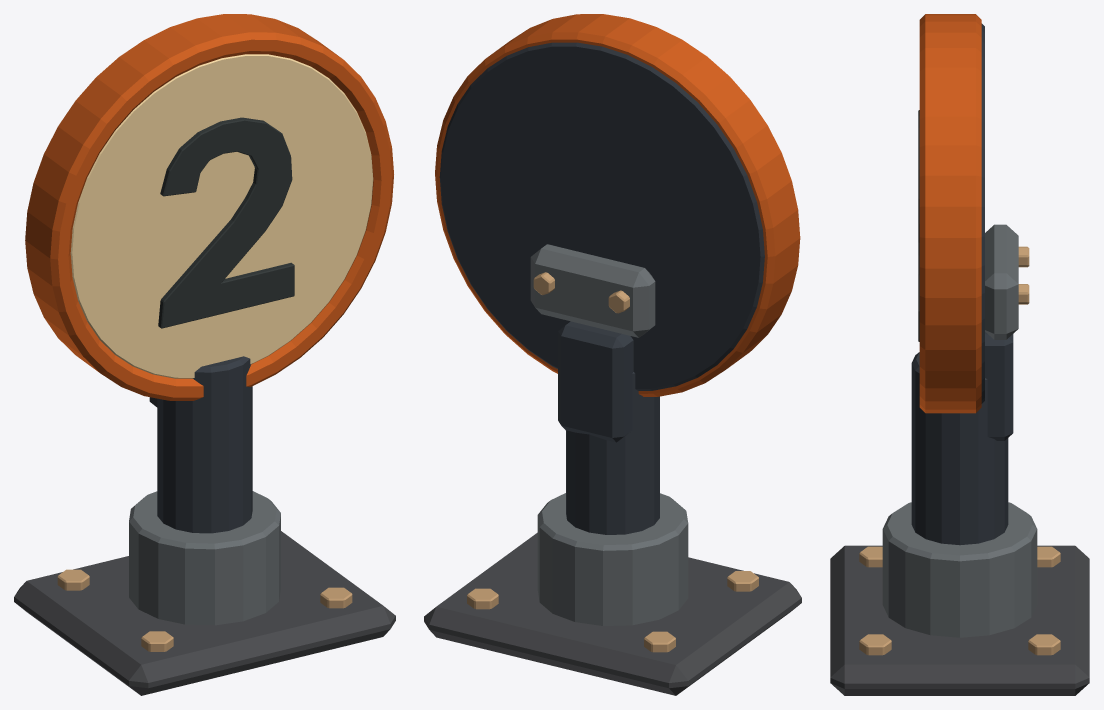
File: wsc-prop-038-mover-station-number-sign.glb
3 views of the same model, side by side, from view 1: azimuth 30°, elevation 25°; view 2: azimuth 150°, elevation 25°; view 3: azimuth 270°, elevation 25° (orthographic).
Parts seen in each view (by area): view 1: cream, orange, foot, steel, numeral, dark, rivet; view 2: dark, foot, steel, orange, rivet; view 3: orange, foot, steel, dark, rivet, numeral.
Part boxes in pixels (<box>): cream: <box>70,54,373,378</box>; orange: <box>25,14,393,400</box>; foot: <box>14,531,395,695</box>; steel: <box>129,491,280,625</box>; numeral: <box>158,117,294,328</box>; dark: <box>149,356,252,533</box>; rivet: <box>57,569,352,651</box>; dark: <box>439,42,764,534</box>; foot: <box>424,532,801,695</box>; steel: <box>530,244,688,625</box>; orange: <box>435,14,800,396</box>; rivet: <box>467,272,758,652</box>; orange: <box>919,14,981,413</box>; foot: <box>830,545,1089,695</box>; steel: <box>882,224,1037,637</box>; dark: <box>911,23,1013,545</box>; rivet: <box>859,246,1060,655</box>; numeral: <box>918,110,919,341</box>.
Bounding box in the file's own units: 0.554 × 0.924 × 0.36.
